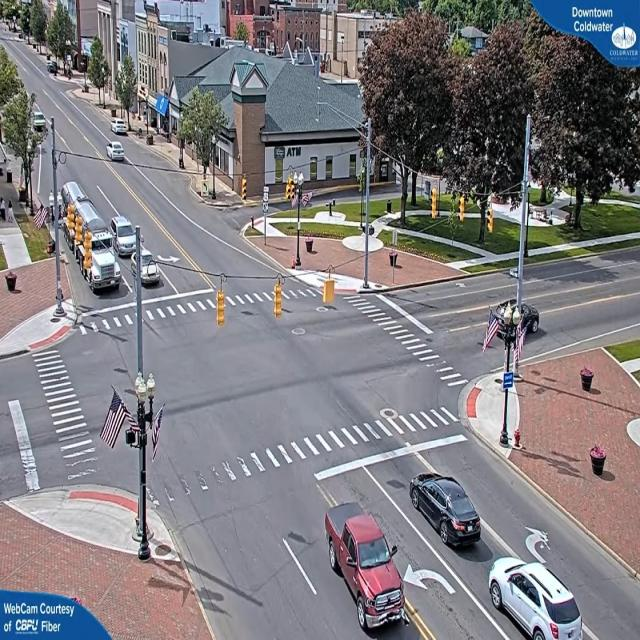car: (328, 508, 406, 634), (490, 561, 588, 640), (410, 476, 482, 551), (494, 301, 540, 335), (110, 216, 142, 258), (142, 258, 162, 287), (109, 144, 127, 162), (112, 120, 129, 137)
truck: (83, 243, 121, 293)
